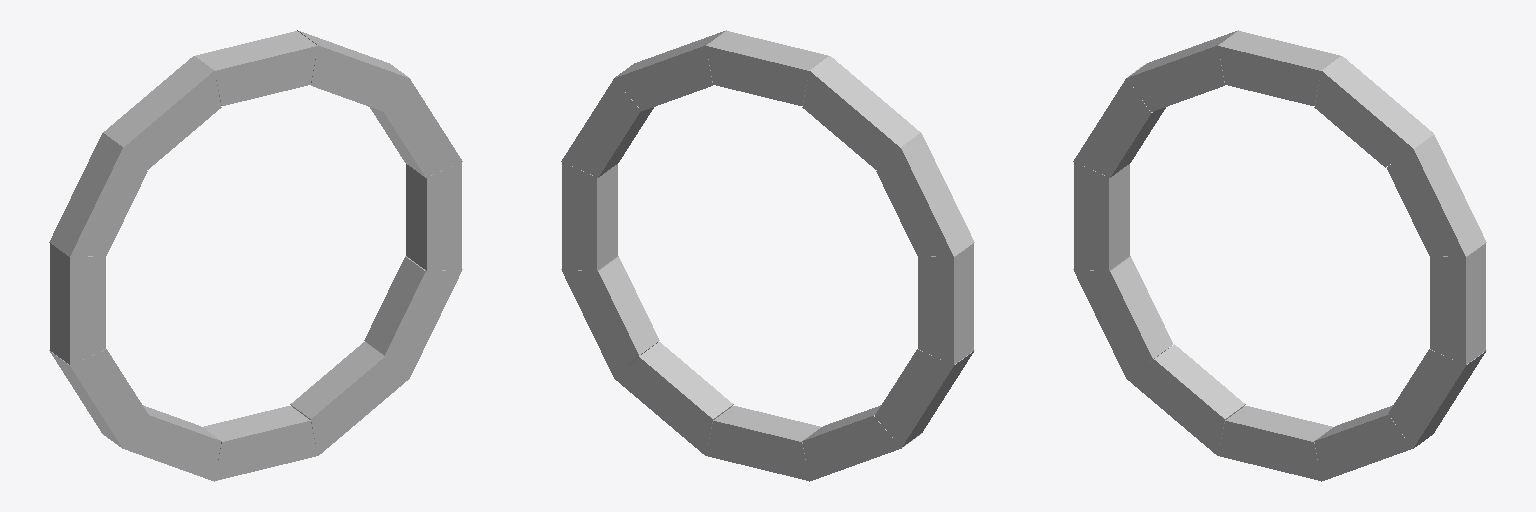
File: ryzerstandardtire.obj
3 views of the same model, side by side, from view 1: azimuth 30°, elevation 25°; view 2: azimuth 150°, elevation 25°; view 3: azimuth 330°, elevation 25° (orthographic).
Visible parts, largest first — view 1: ryzerstandardtire; view 2: ryzerstandardtire; view 3: ryzerstandardtire.
Part boxes in pixels (x1,y1,x2,y2): ryzerstandardtire: (49,30,462,481); ryzerstandardtire: (561,30,974,481); ryzerstandardtire: (1073,30,1486,481).
Size of the model in its own units: 0.6891 by 0.6891 by 0.0625.